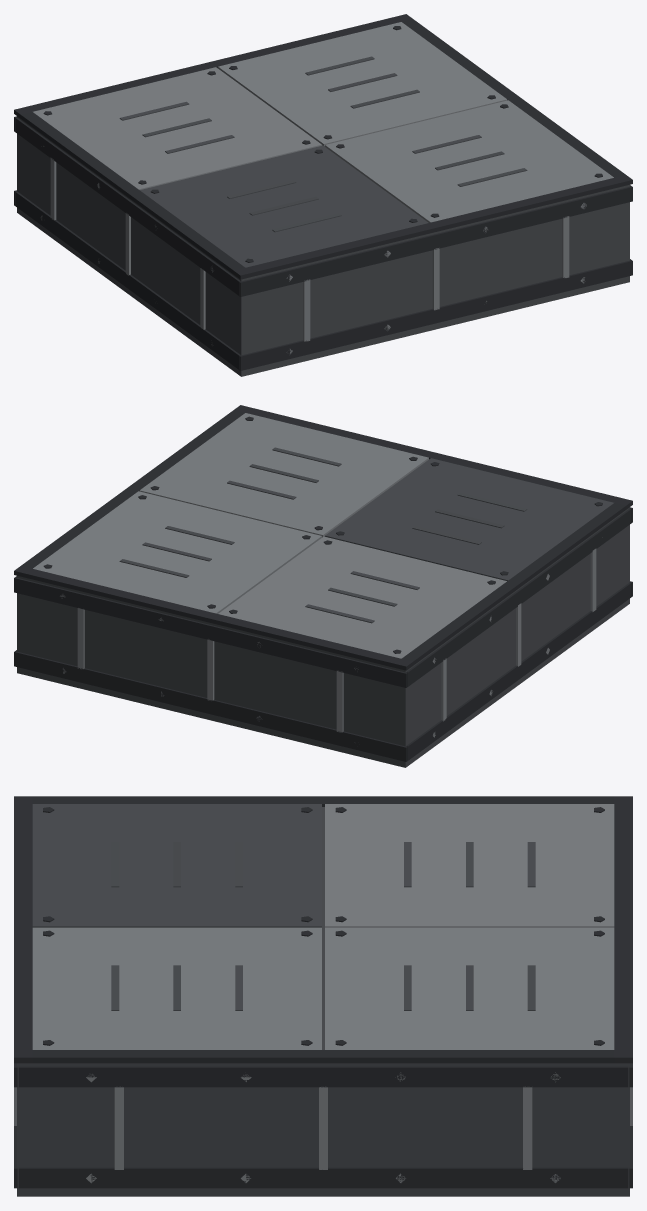
File: piece_foundation_reinforced.fbx
The picture shows the model from 3 angles, top to bottom: view 1: azimuth 30°, elevation 25°; view 2: azimuth 150°, elevation 25°; view 3: azimuth 270°, elevation 25°; orthographic projection. The views are drawn at different scales.
Parts seen in each view (by area): view 1: piece_foundation_reinforced; view 2: piece_foundation_reinforced; view 3: piece_foundation_reinforced.
Part boxes in pixels (x1,y1,x2,y2): piece_foundation_reinforced: [14, 14, 632, 376]; piece_foundation_reinforced: [14, 405, 632, 767]; piece_foundation_reinforced: [14, 796, 632, 1196].
Bounding box in the file's own units: 2 × 0.504 × 2.
